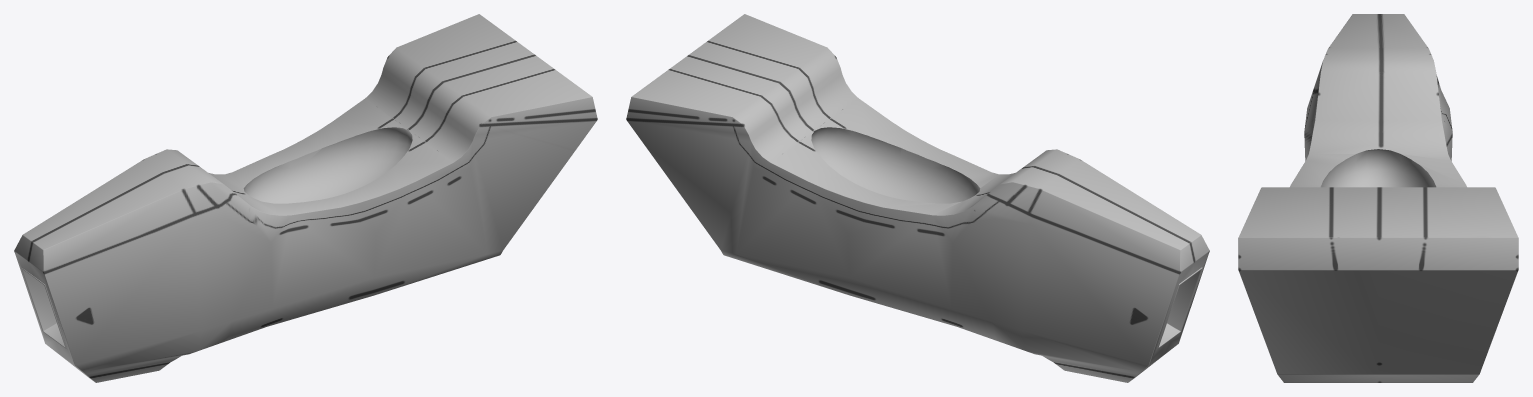
3 renders of one model, left to right at view 1: azimuth 30°, elevation 25°; view 2: azimuth 150°, elevation 25°; view 3: azimuth 270°, elevation 25°, orthographic. The views are drawn at different scales.
Parts seen in each view (by area): view 1: 球体.006; view 2: 球体.006; view 3: 球体.006.
Part boxes in pixels (bbox=[...]): 球体.006: bbox=[14, 14, 597, 382]; 球体.006: bbox=[626, 14, 1209, 382]; 球体.006: bbox=[1238, 14, 1518, 382].
Bounding box in the file's own units: 178 × 72.11 × 68.36.
